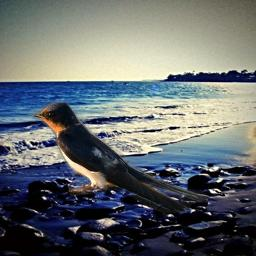Swallow: (28, 97, 210, 213)
